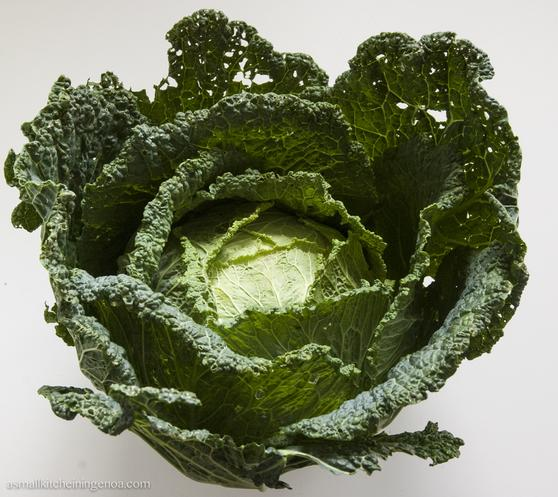cabbage: (35, 69, 514, 486)
